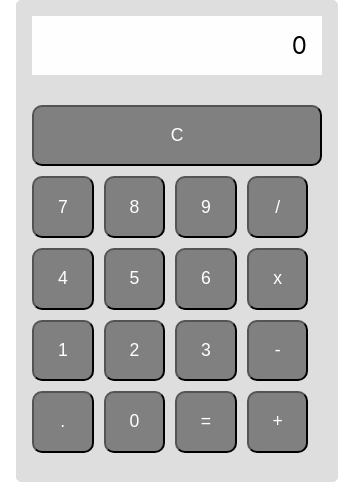
Test: Calculator › should clear the running total without affecting the calculation
What coordinates should you click on to do the following:
click the button with test id "number8"
I would click on:
 (134, 207)
Its box is [104,176,165,238].
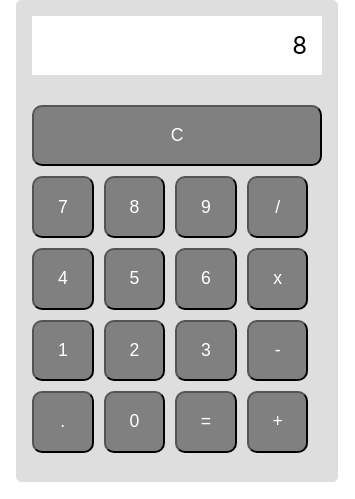
What coordinates should you click on to do the following:
click the button with test id "clear"
I would click on:
 (177, 136)
Its box is [32,105,322,166].
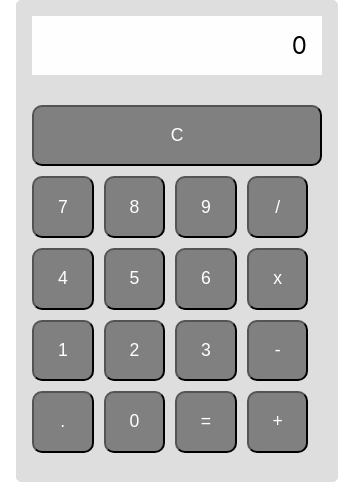
What coordinates should you click on to do the following:
click the button with test id "number2"
I would click on:
 (134, 350)
Its box is [104,320,165,381].
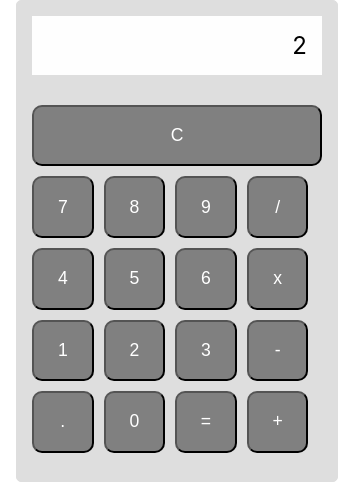
Check: the text with test id "running-total" reads "2", box [292,31,307,60]
